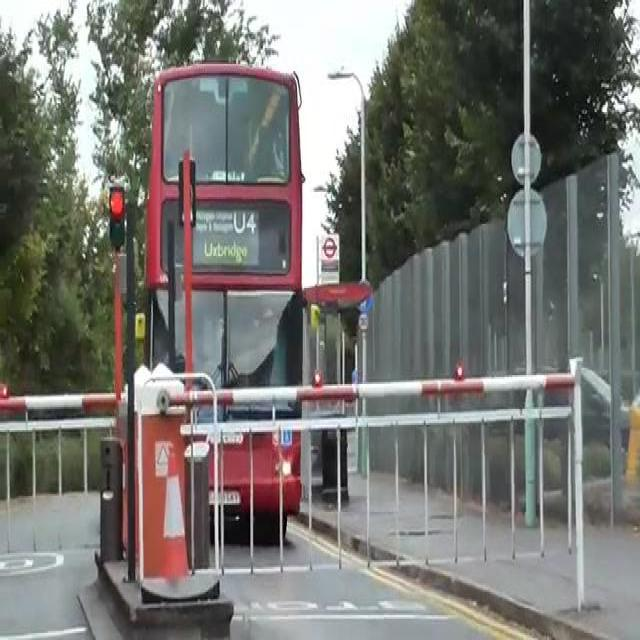motorcycle: (123, 41, 314, 576)
